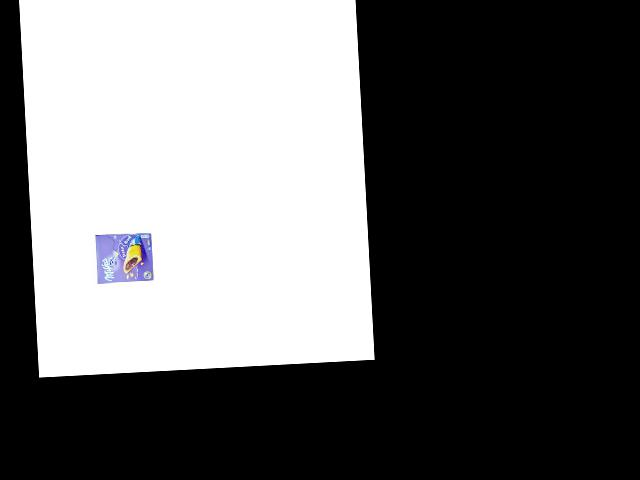chocolate: (91, 229, 157, 286)
